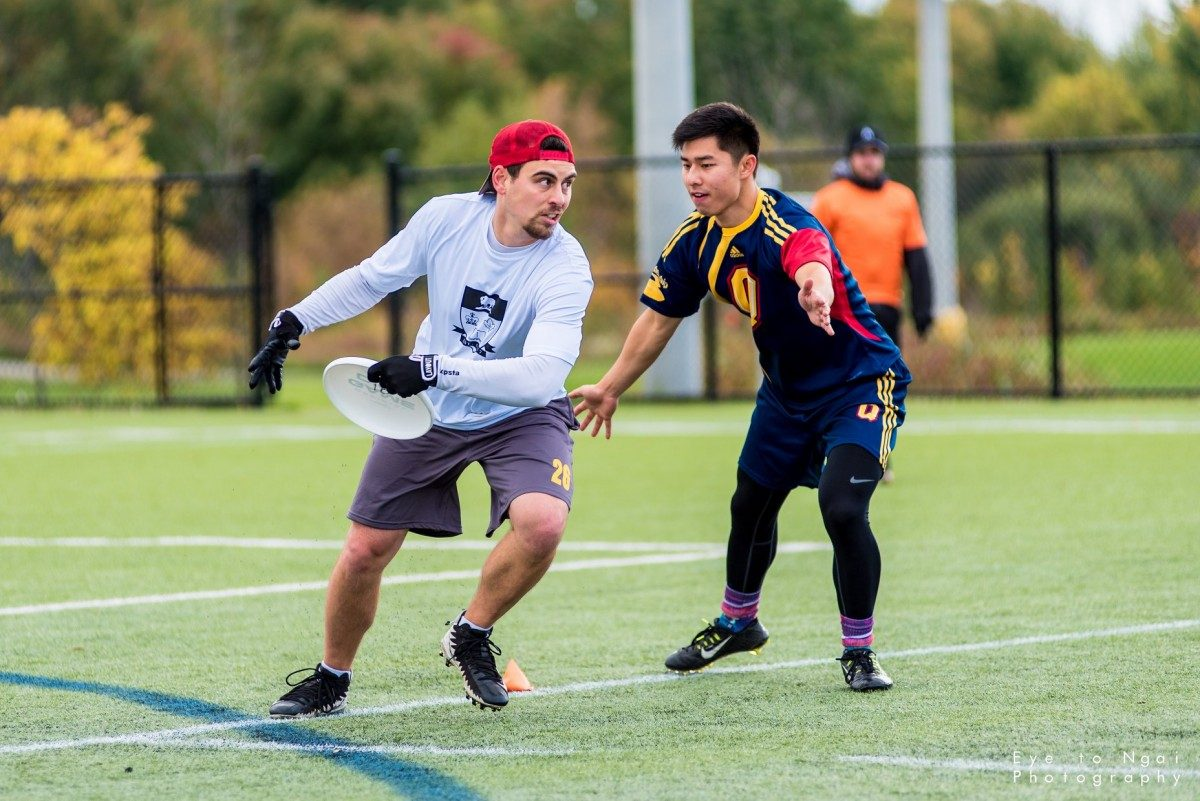disc: (307, 351, 437, 443)
